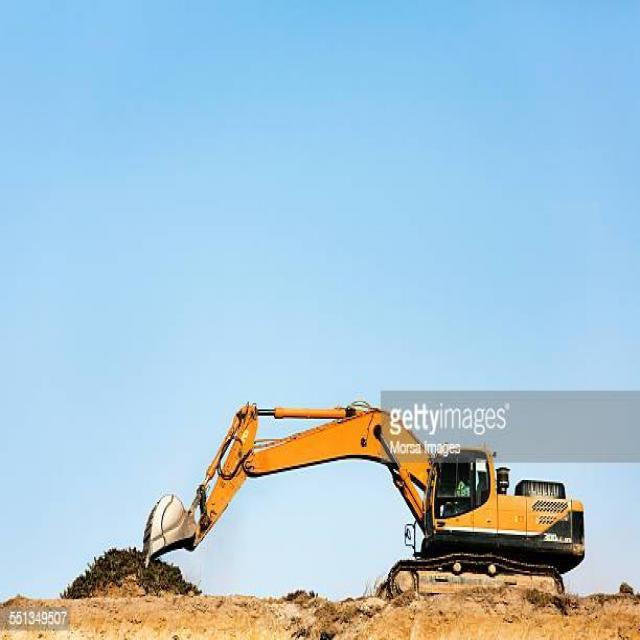C_E: (140, 403, 589, 601)
